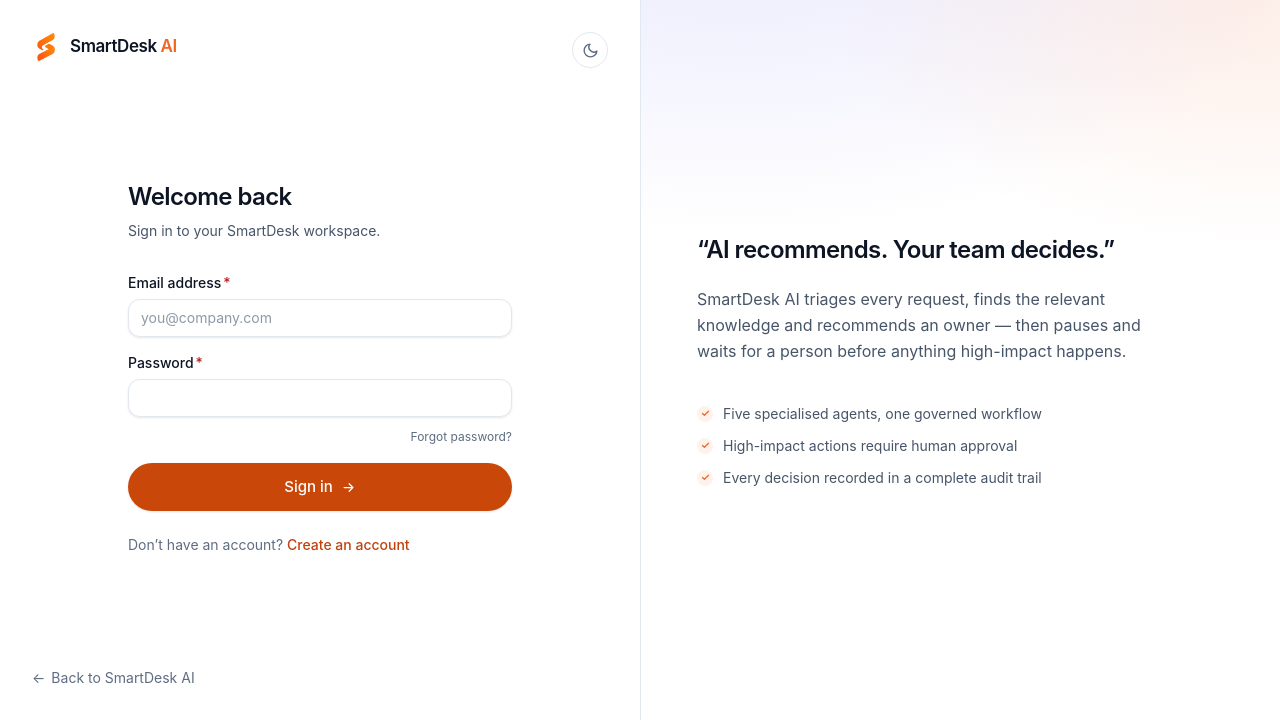
Scenario: Sign in page › rejects a malformed email address before sending a request
Type "not-an-email" into the field labelled "Email address*". click: (320, 318)
box: [128, 299, 512, 337]
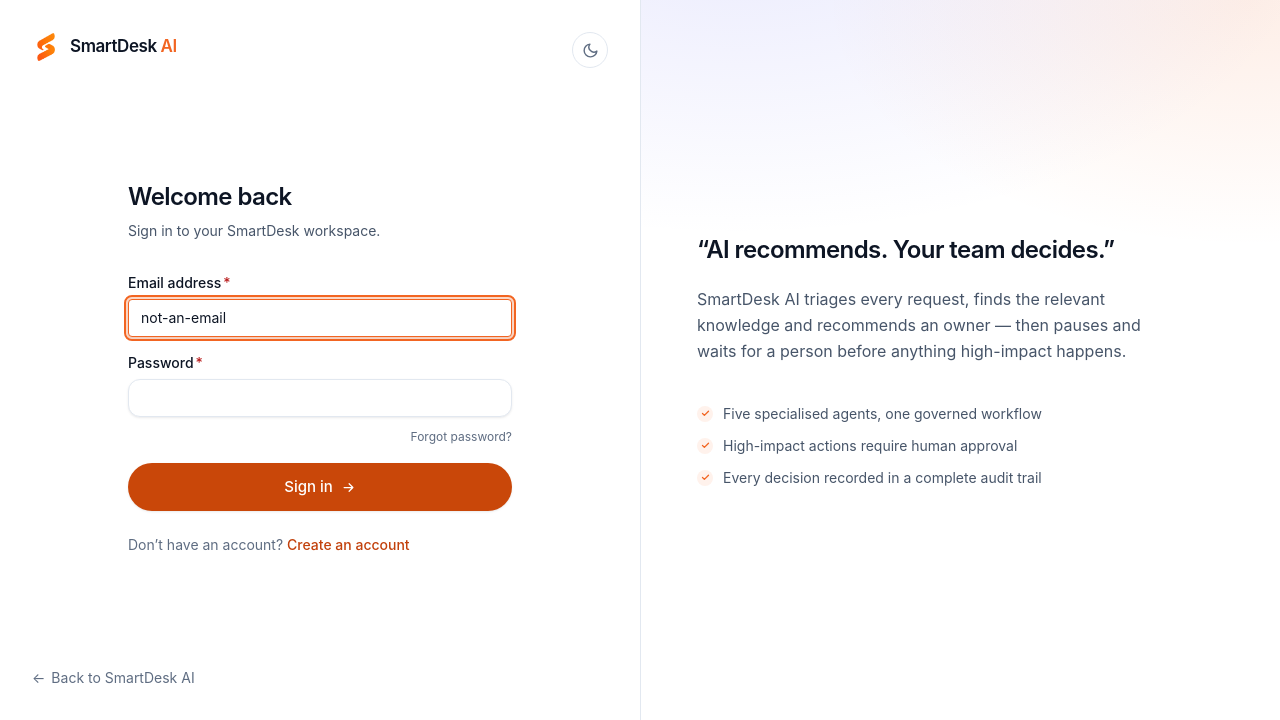
Type "Password123!" into the password field labelled "Password*". click: (320, 398)
box: [128, 379, 512, 417]
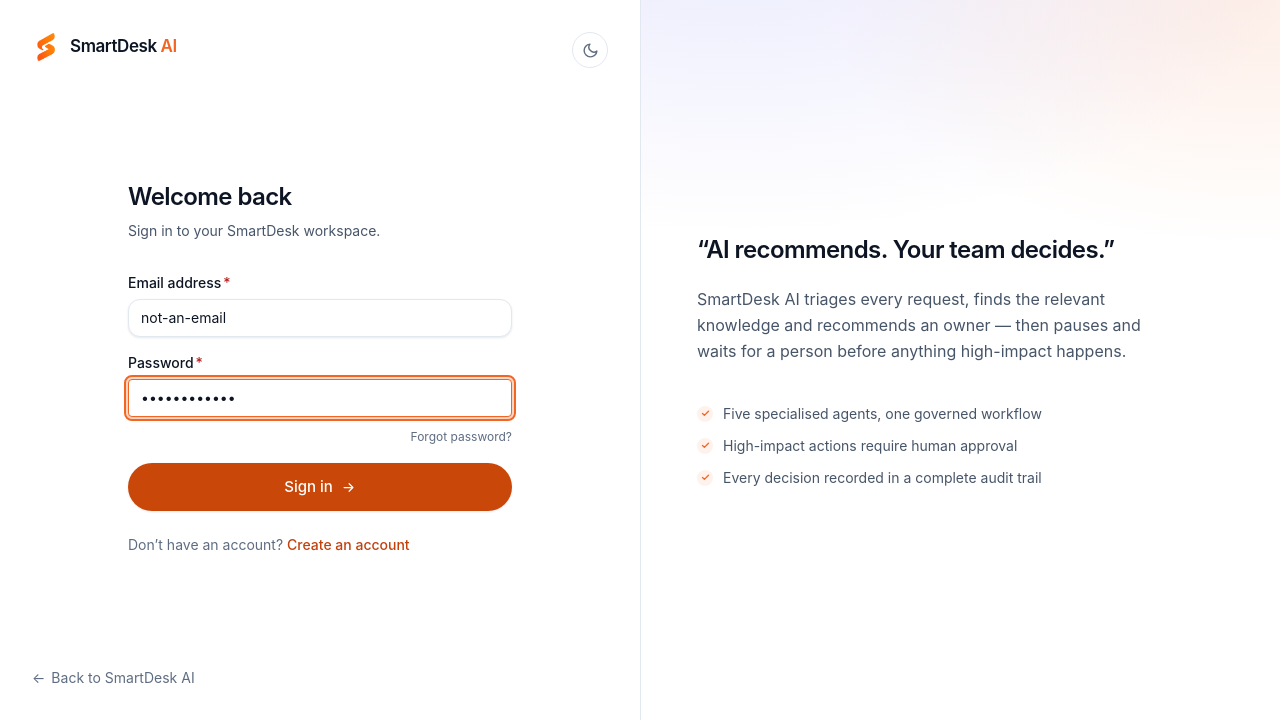
Click the button "Sign in". click: (320, 487)
box: [128, 463, 512, 511]
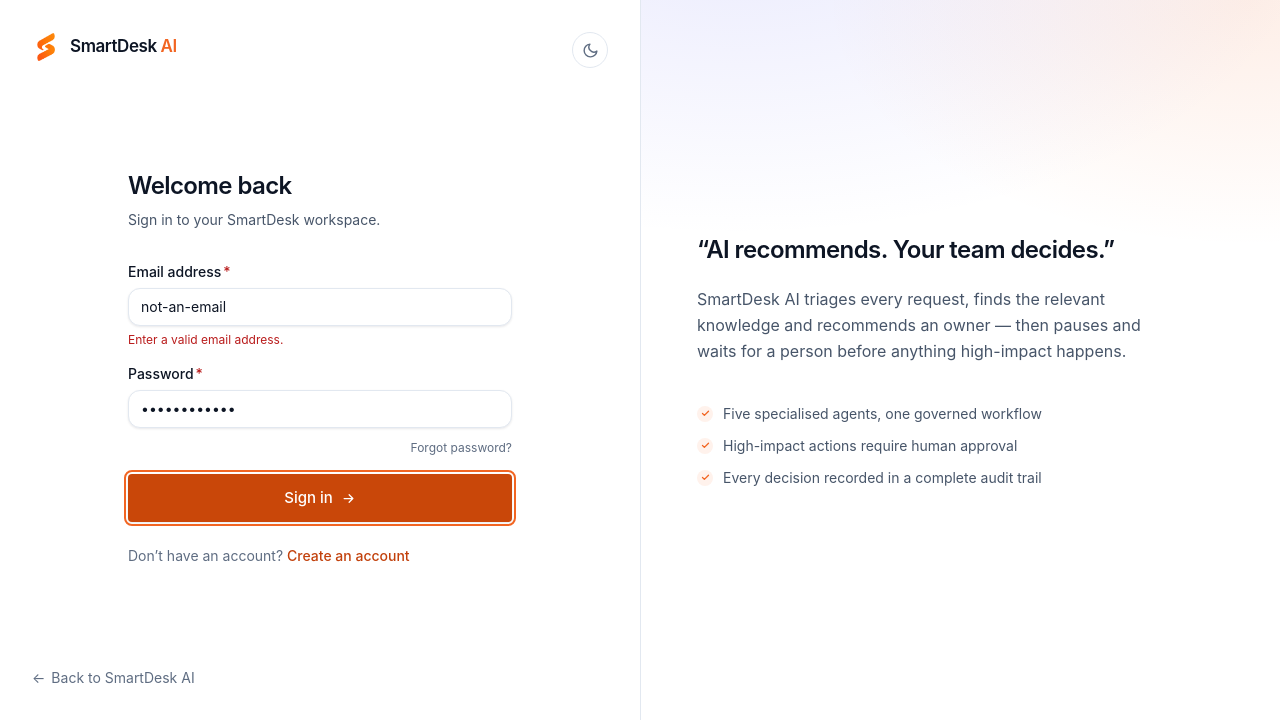
Result: the text "Enter a valid email address." is shown at [128, 332, 283, 347]
